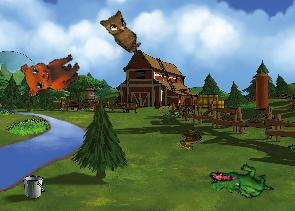bear: (15, 40, 85, 104)
crocodile: (207, 157, 274, 207)
owl: (96, 5, 150, 55)
